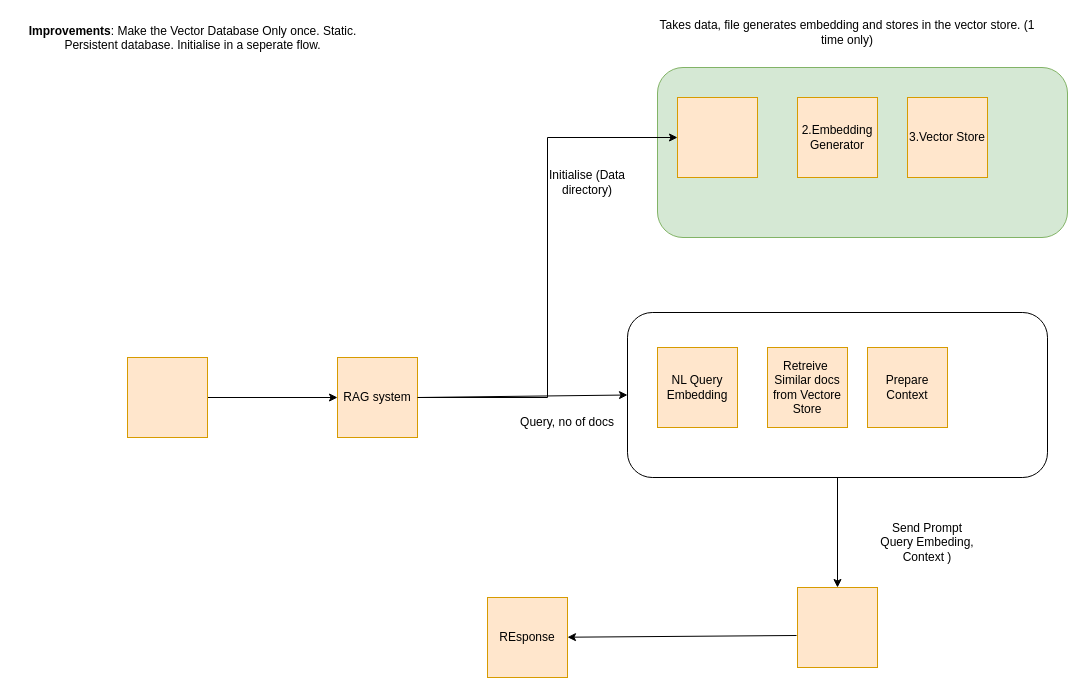
This 1085x695 diagram has some shape labels left out. The centre of each missing label's shape, as x and y in pixels:
"1.Data Loader" belongs at point (717, 137).
"Main" belongs at point (167, 397).
"Open AI GPT Mole" belongs at point (837, 627).
